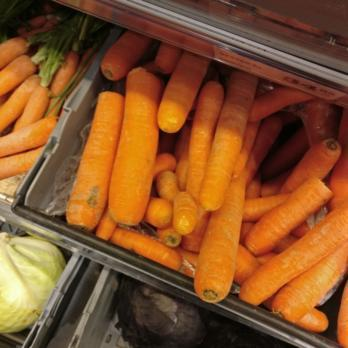Carrot: (53, 95, 328, 216), (141, 221, 348, 299), (0, 12, 41, 174), (93, 38, 168, 93)
